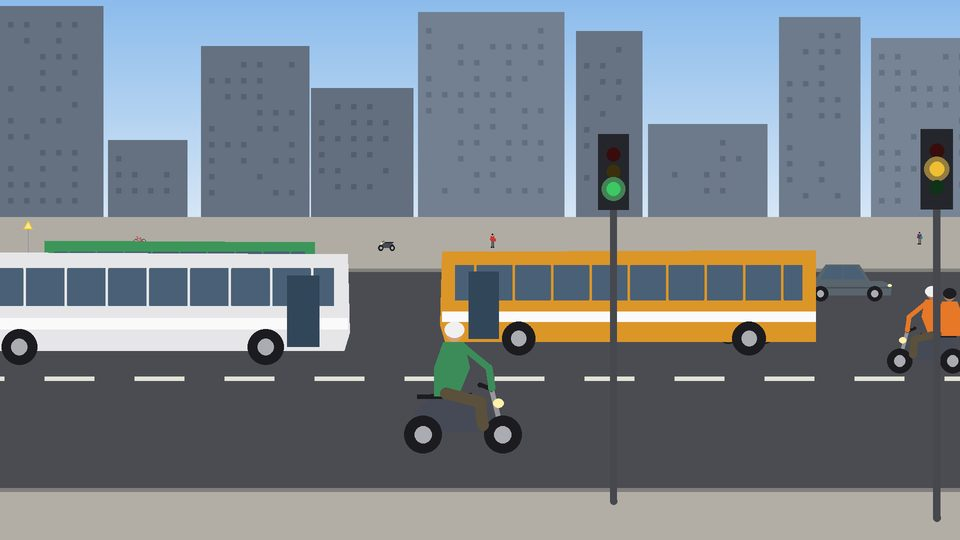Bus: (440, 251, 816, 356), (0, 253, 350, 365), (45, 241, 315, 254)
Car: (816, 265, 892, 302)
Motorcyclist: (404, 322, 521, 454), (888, 286, 960, 374)
Traffic light: (921, 129, 953, 210), (598, 134, 629, 210)
